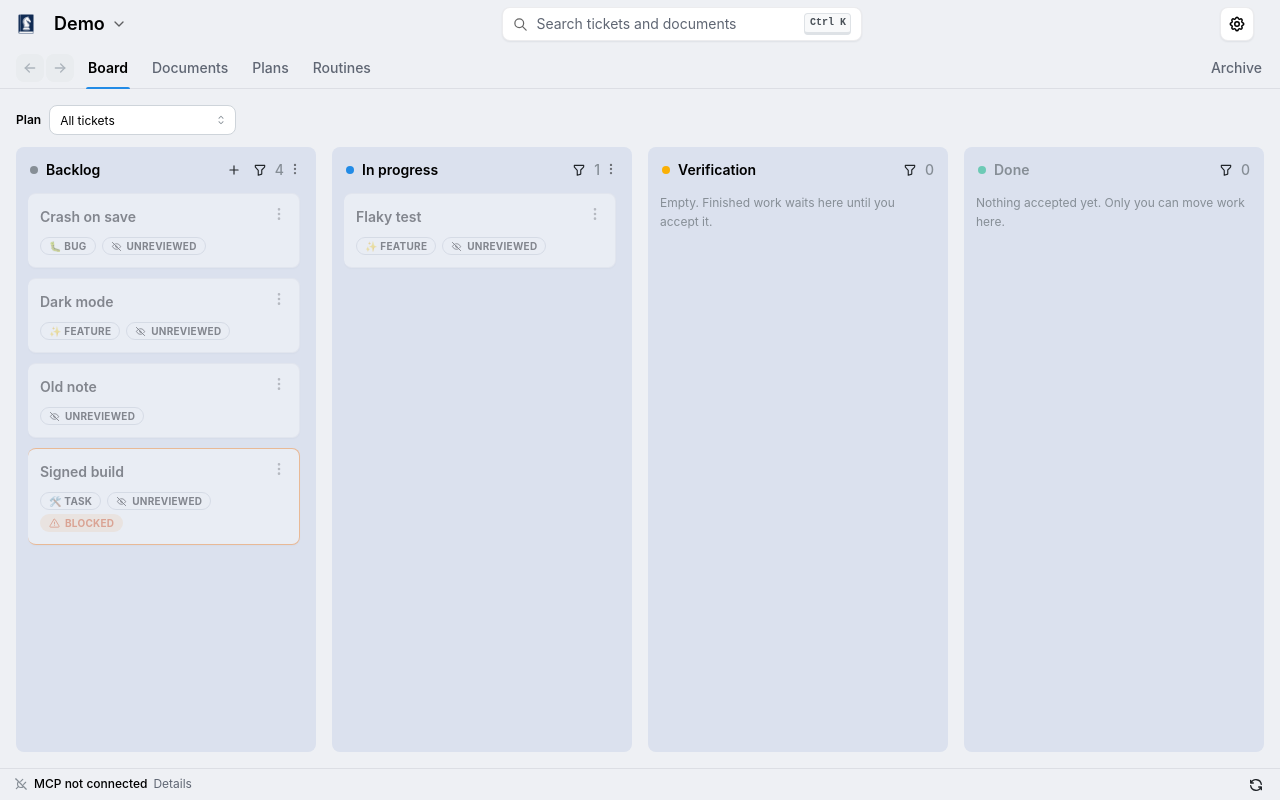
Test: a column filter › clears in one action
Click the button named "Filter the Backlog" at (260, 170), box top-left (249, 159), bottom-right (271, 181)
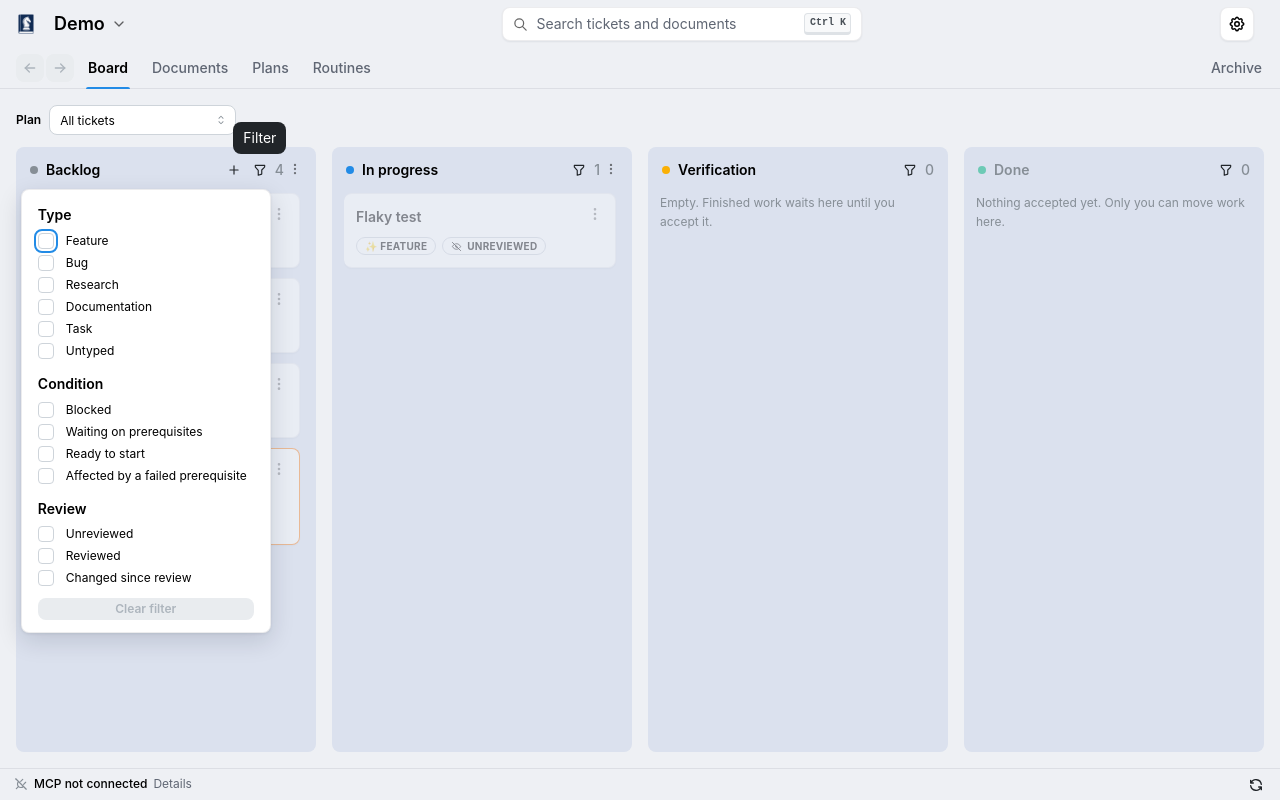
Click the checkbox labelled "Bug" at (46, 263), box top-left (38, 255), bottom-right (54, 271)
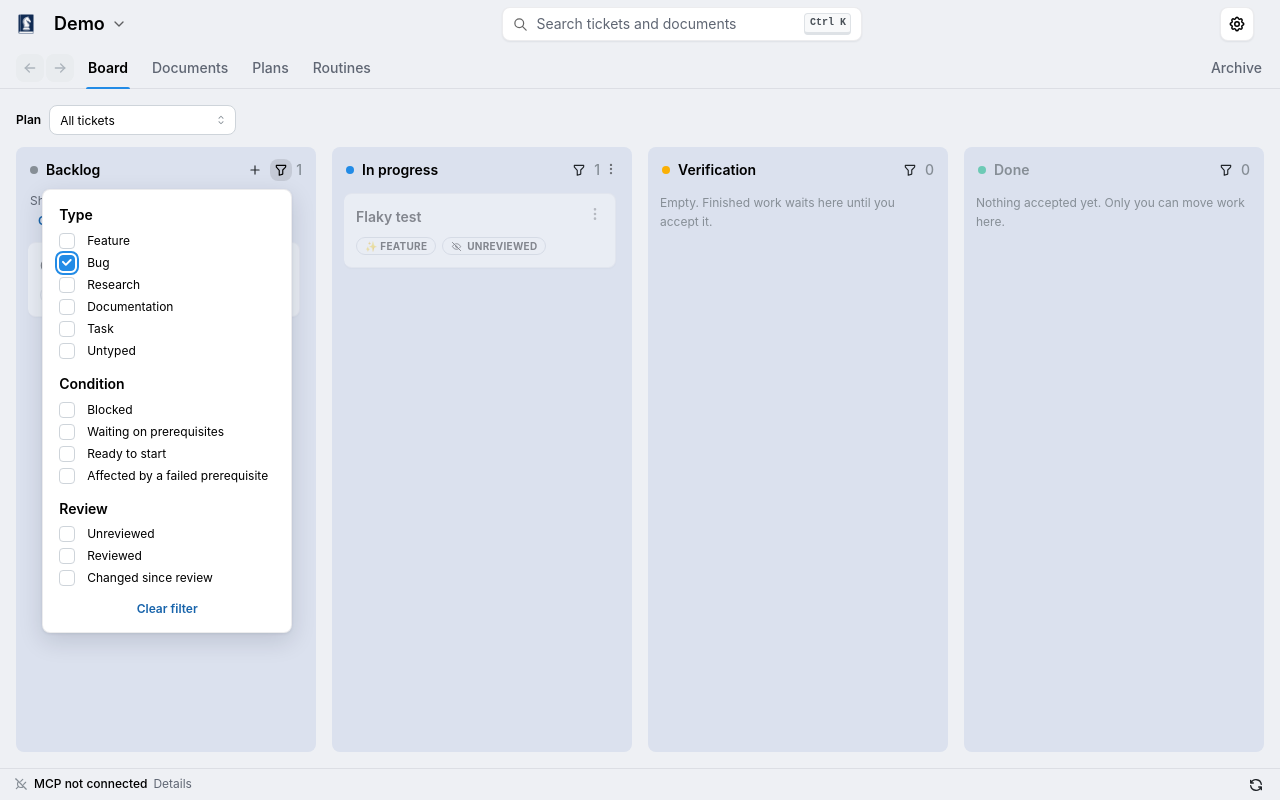
Press Escape
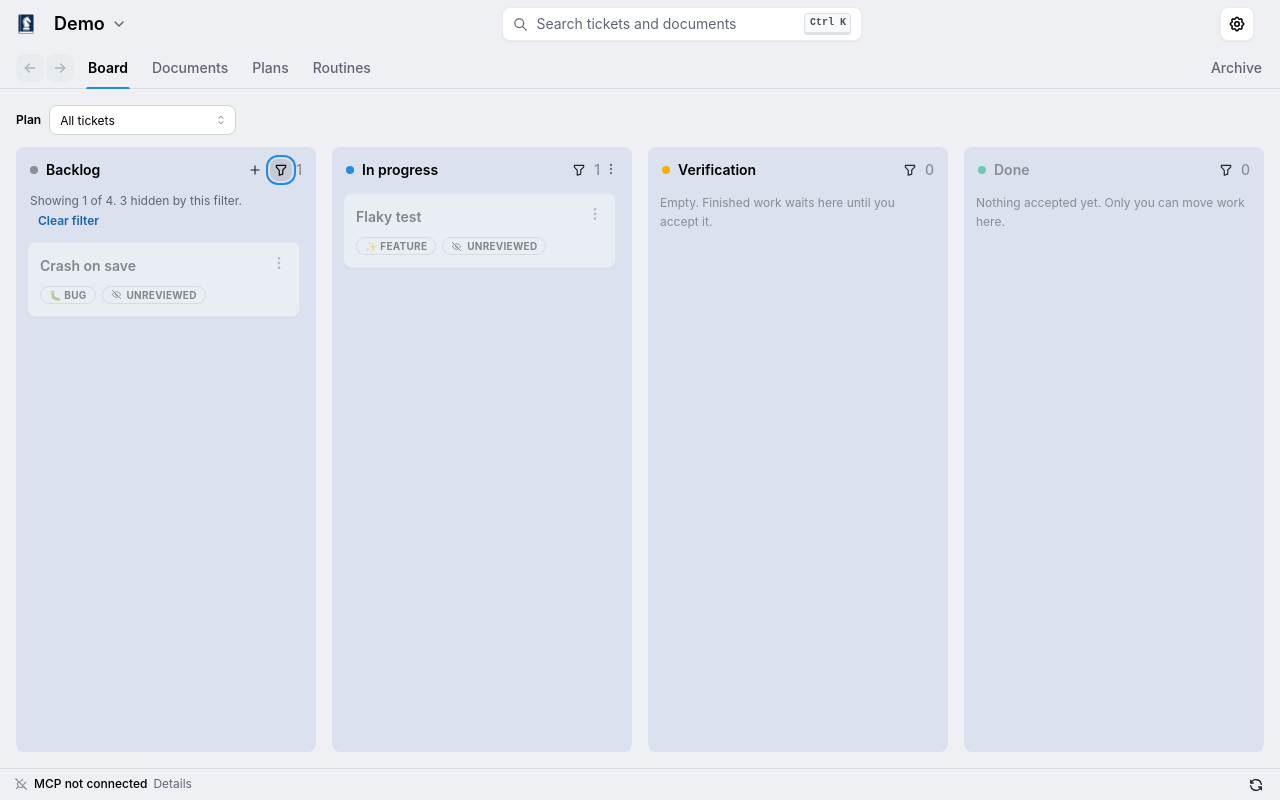
Click the button "Clear filter" at (68, 221), box top-left (30, 210), bottom-right (107, 232)
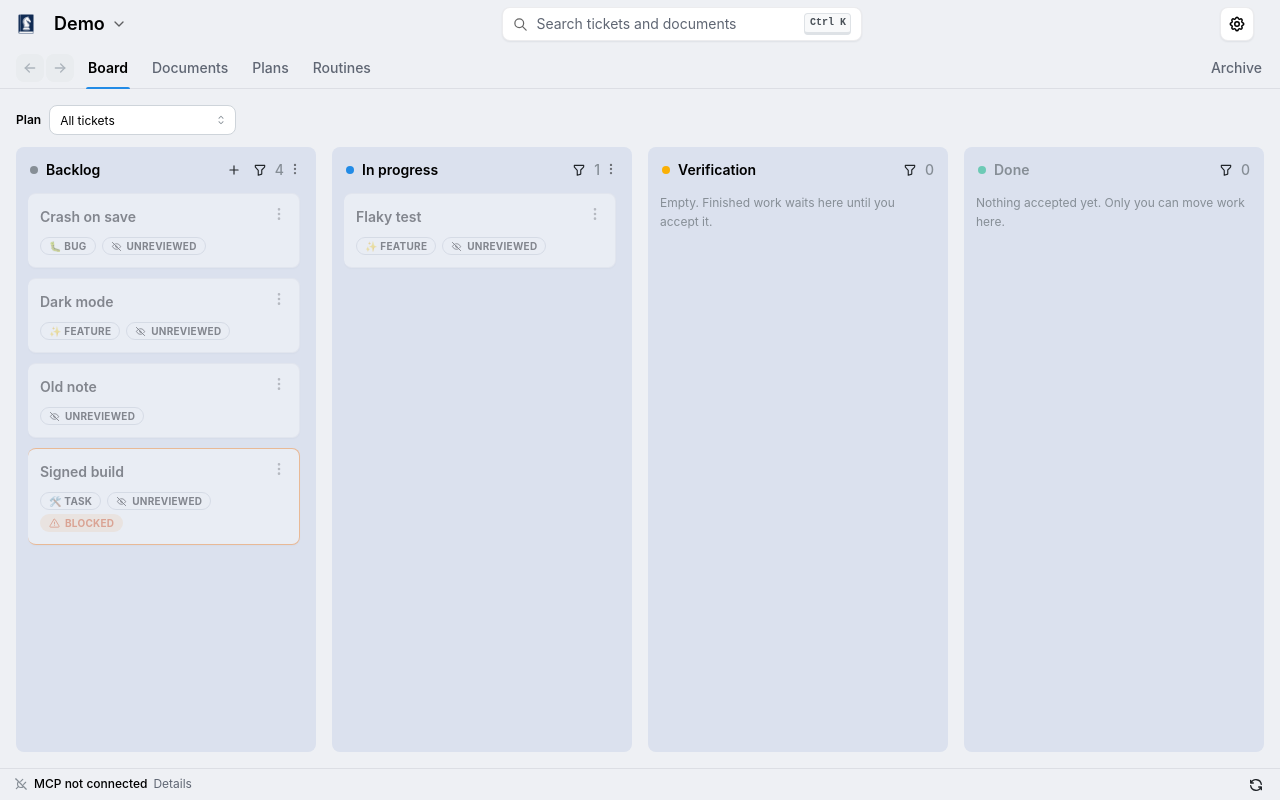
Expected: the text "hidden by this filter" is gone
